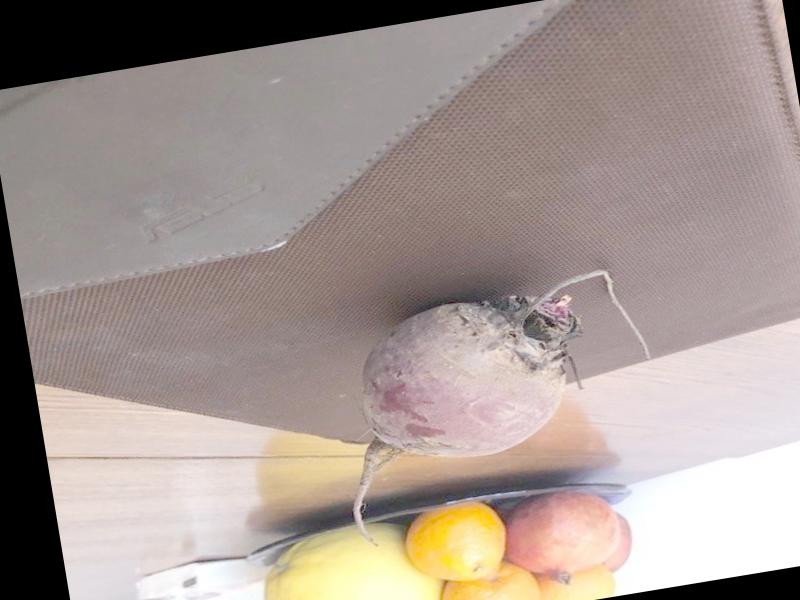Beet: (319, 263, 675, 550)
